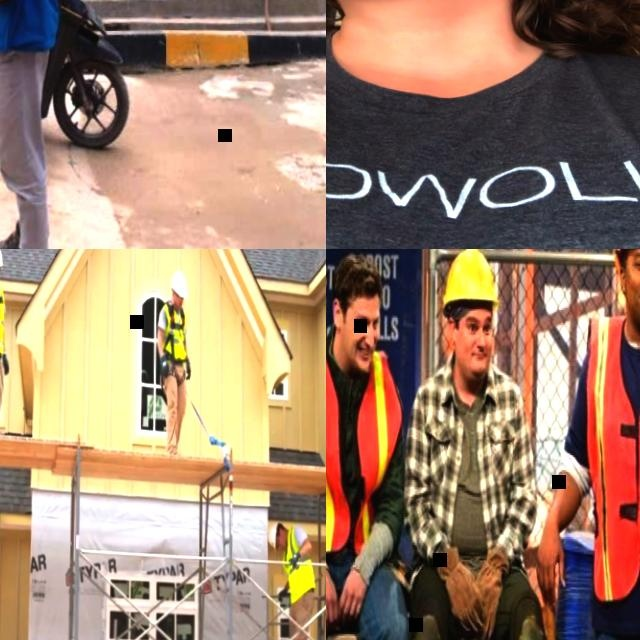Hardhat: (437, 249, 495, 306), (170, 269, 187, 296), (267, 520, 280, 549)
NO-Hardhat: (333, 252, 382, 306)
NO-Mask: (459, 342, 496, 380), (340, 338, 372, 375), (625, 283, 640, 323), (279, 532, 285, 550), (175, 298, 182, 307)
NO-Safety Vest: (326, 33, 640, 249), (430, 366, 510, 548)
Person: (326, 0, 640, 249), (397, 249, 558, 640), (529, 249, 640, 640), (326, 249, 412, 640), (0, 0, 70, 249), (154, 268, 192, 454), (264, 518, 316, 640), (0, 249, 10, 435)
Safety Vest: (326, 330, 405, 565), (578, 302, 640, 587), (281, 522, 316, 601), (161, 301, 186, 358)
